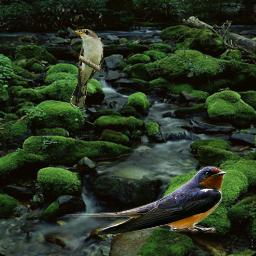Cuckoo: (70, 29, 104, 108)
Swallow: (63, 165, 227, 235)
